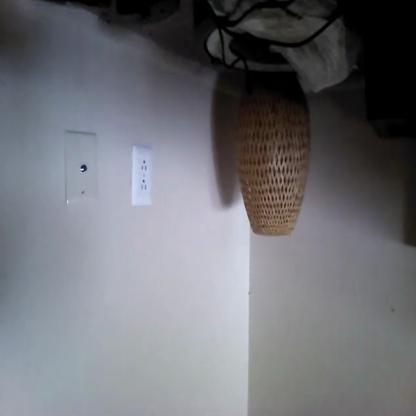OUTLET: (130, 146, 152, 208)
